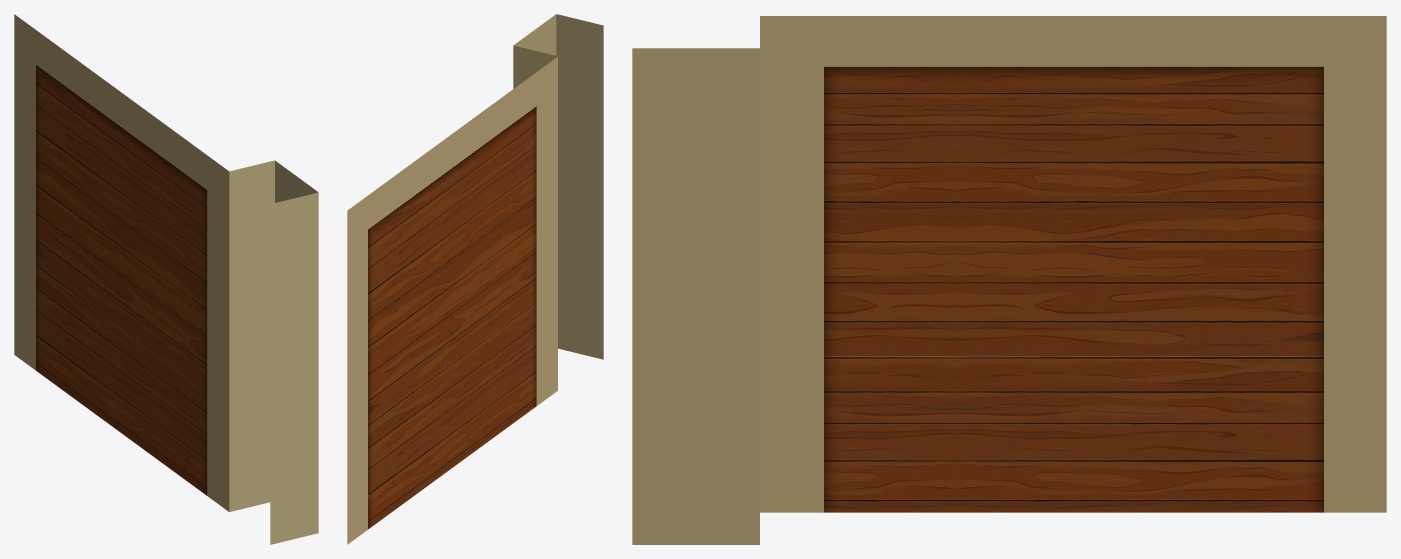
File: pared_01.fbx
3 renders of one model, left to right at view 1: azimuth 30°, elevation 25°; view 2: azimuth 150°, elevation 25°; view 3: azimuth 270°, elevation 25°, orthographic. The views are drawn at different scales.
Parts seen in each view (by area): view 1: Plane.003; view 2: Plane.003; view 3: Plane.003.
Boxes of the visible parts, <box> form: Plane.003: <box>14,14,318,544</box>; Plane.003: <box>347,14,603,544</box>; Plane.003: <box>632,16,1386,544</box>.
Size of the model in its own units: 40.08 by 270 by 372.
Materials: 2 (1 with a texture image).
